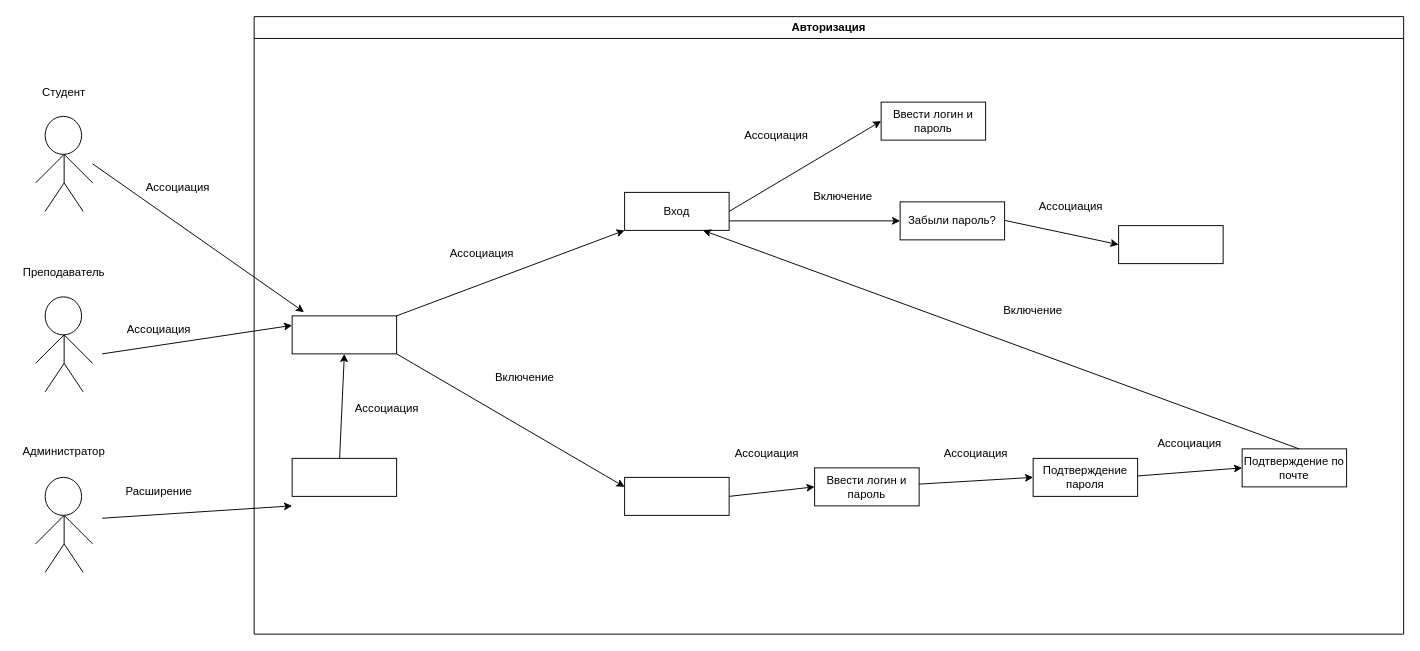
The diagram is 1420 pixels wide and 651 high, and some of its shapes have lost their labels. The centre of each missing label's shape, as x and y in pixels:
Анализ данных пользоватей: (x=344, y=476)
Восстановление пароля: (x=1170, y=244)
Вход на сайт: (x=344, y=334)
Регистрация: (x=676, y=495)
